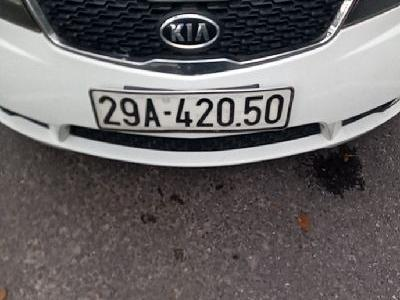lisence: (87, 86, 296, 135)
